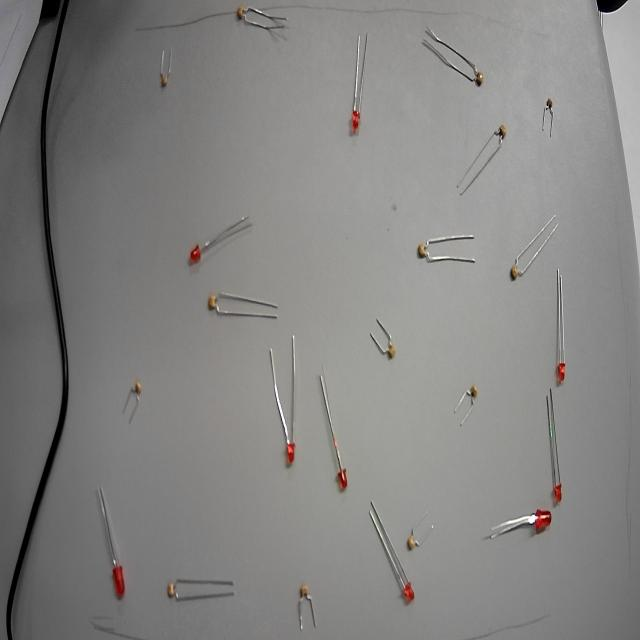LED_red: (177, 231, 216, 281), (548, 468, 580, 526), (323, 454, 357, 508), (278, 423, 306, 488), (101, 550, 131, 607), (519, 504, 554, 552), (396, 567, 424, 620), (552, 350, 574, 407), (343, 105, 370, 151)
capacitor: (159, 563, 202, 613), (398, 506, 438, 559), (368, 314, 402, 370), (504, 247, 538, 292), (533, 87, 560, 141), (290, 575, 320, 623), (460, 372, 484, 432), (411, 223, 441, 268), (484, 120, 514, 163), (457, 55, 490, 94), (127, 367, 149, 420), (206, 286, 238, 322), (232, 1, 261, 37), (157, 65, 179, 98)
